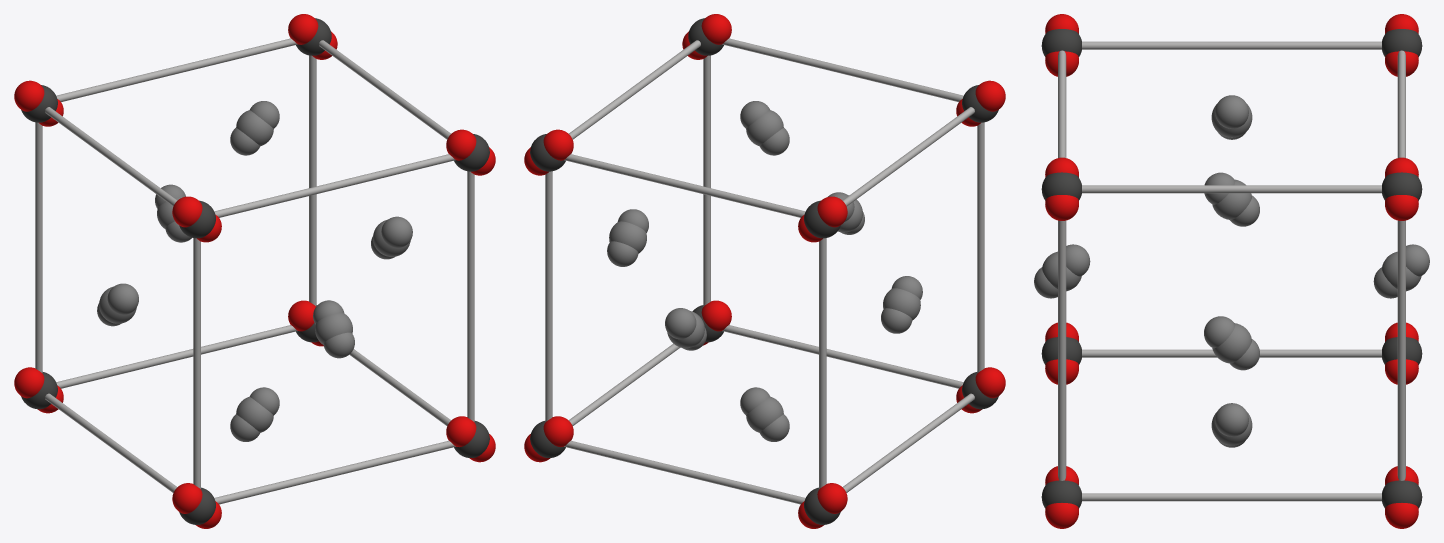
The model's file is fenzijingtu4.FBX.
The picture shows the model from 3 angles, left to right: view 1: azimuth 30°, elevation 25°; view 2: azimuth 150°, elevation 25°; view 3: azimuth 270°, elevation 25°; orthographic projection. The views are drawn at different scales.
Visible parts, largest first — view 1: F003; view 2: F003; view 3: F003.
Part boxes in pixels (x1,y1,x2,y2): F003: (14, 14, 495, 528); F003: (524, 14, 1005, 528); F003: (1034, 14, 1429, 528).
Bounding box in the file's own units: 58.27 × 58.27 × 58.27.
